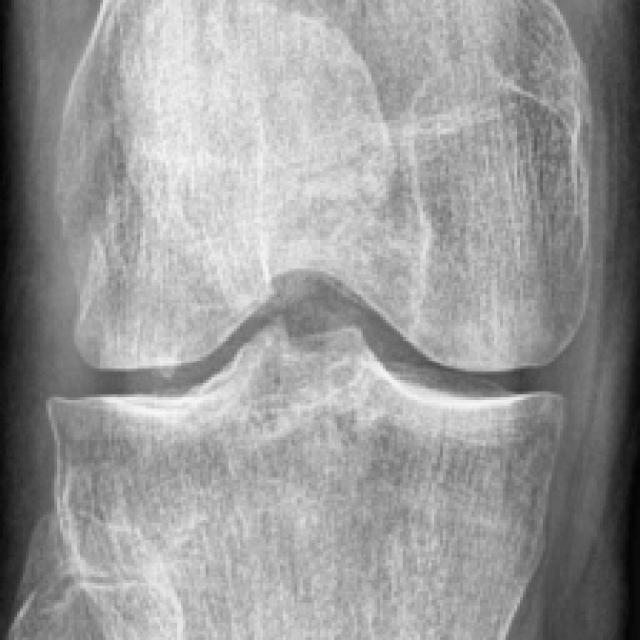femur: (55, 0, 590, 371)
tibia: (48, 326, 562, 640)
